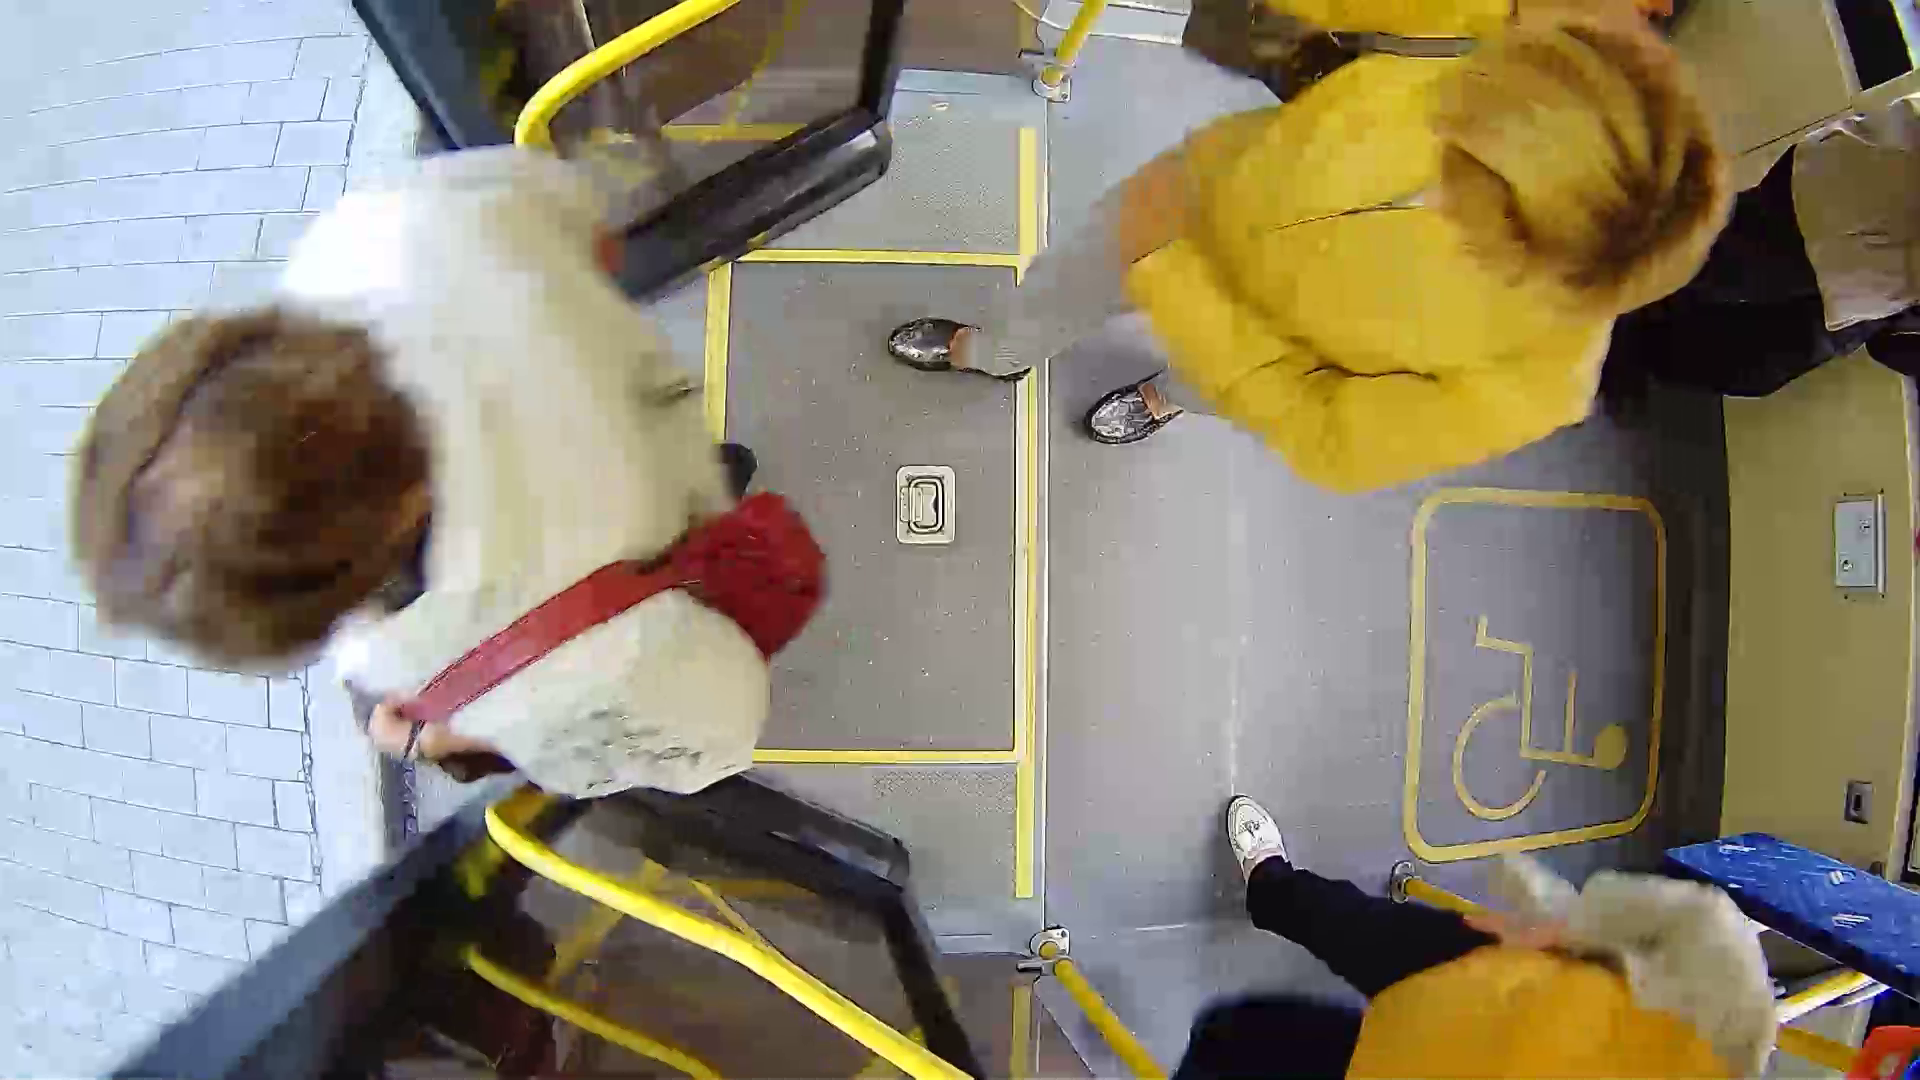person: (79, 115, 915, 804), (987, 8, 1850, 514)
